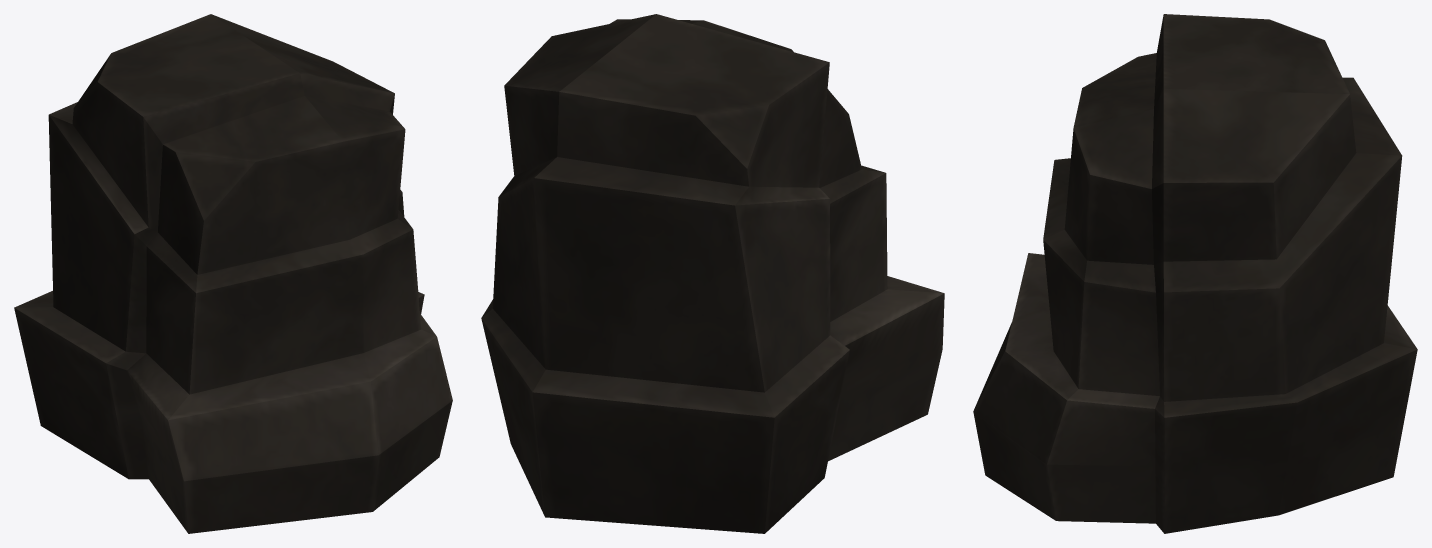
The model's file is Stone1.FBX.
3 renders of one model, left to right at view 1: azimuth 30°, elevation 25°; view 2: azimuth 150°, elevation 25°; view 3: azimuth 270°, elevation 25°, orthographic. The views are drawn at different scales.
Visible parts, largest first — view 1: Stone1; view 2: Stone1; view 3: Stone1.
Part boxes in pixels (x1=…): Stone1: x1=14, y1=14, x2=452, y2=533; Stone1: x1=481, y1=14, x2=944, y2=533; Stone1: x1=973, y1=14, x2=1417, y2=533.
Bounding box in the file's own units: 5.13 × 5.69 × 5.84.
